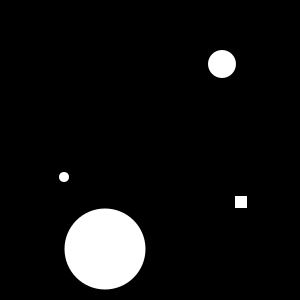circle: (235, 196, 247, 208)
rectangle: (64, 208, 146, 290), (208, 50, 236, 78), (59, 172, 69, 182)
